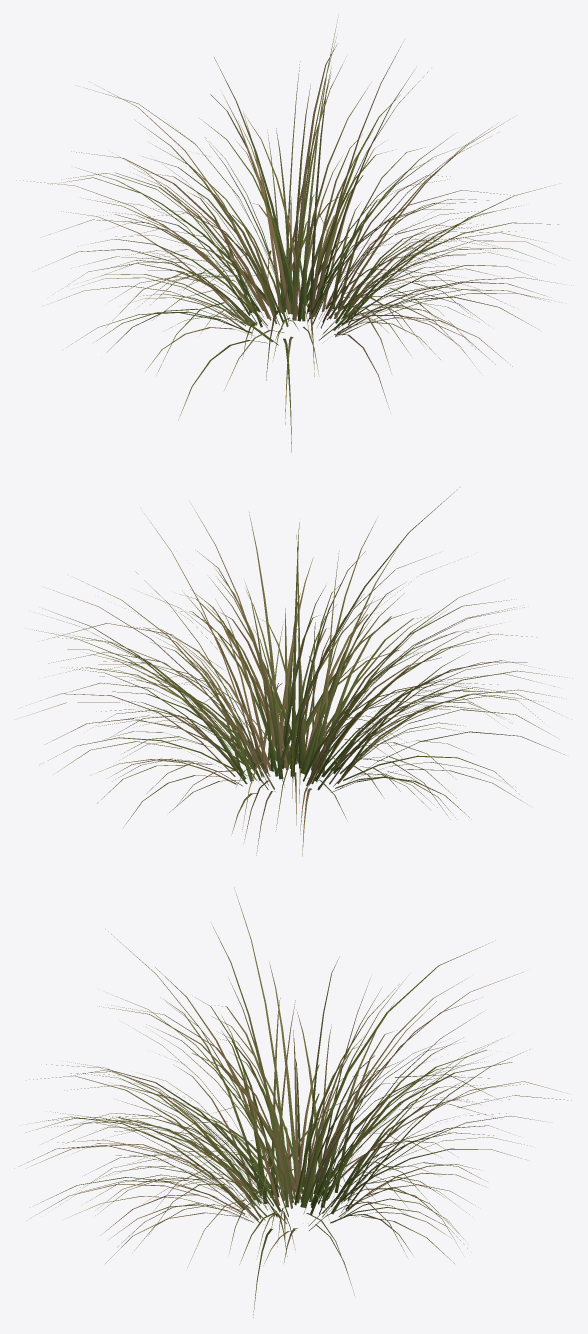
The model's file is tussock_b.glb.
The picture shows the model from 3 angles, top to bottom: view 1: azimuth 30°, elevation 25°; view 2: azimuth 150°, elevation 25°; view 3: azimuth 270°, elevation 25°; orthographic projection. The views are drawn at different scales.
Visible parts, largest first — view 1: tussock_b; view 2: tussock_b; view 3: tussock_b.
Boxes of the visible parts, left/top/right/bottom form: tussock_b: left=16, top=14, right=569, bottom=452; tussock_b: left=27, top=487, right=572, bottom=856; tussock_b: left=14, top=887, right=571, bottom=1317.
Bounding box in the file's own units: 0.9607 × 0.494 × 0.8965.
